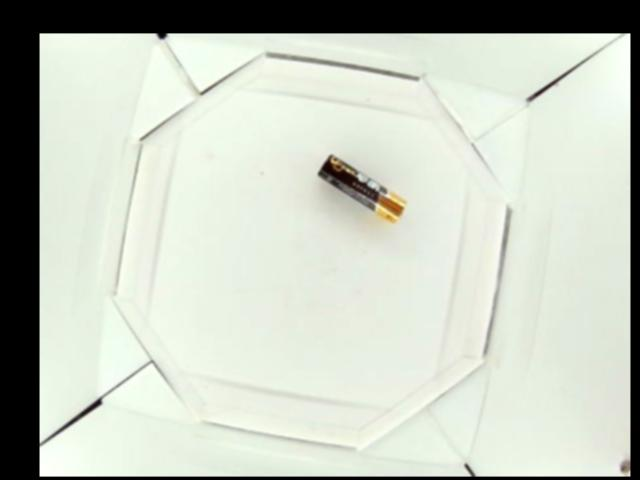Battery: (315, 153, 408, 224)
